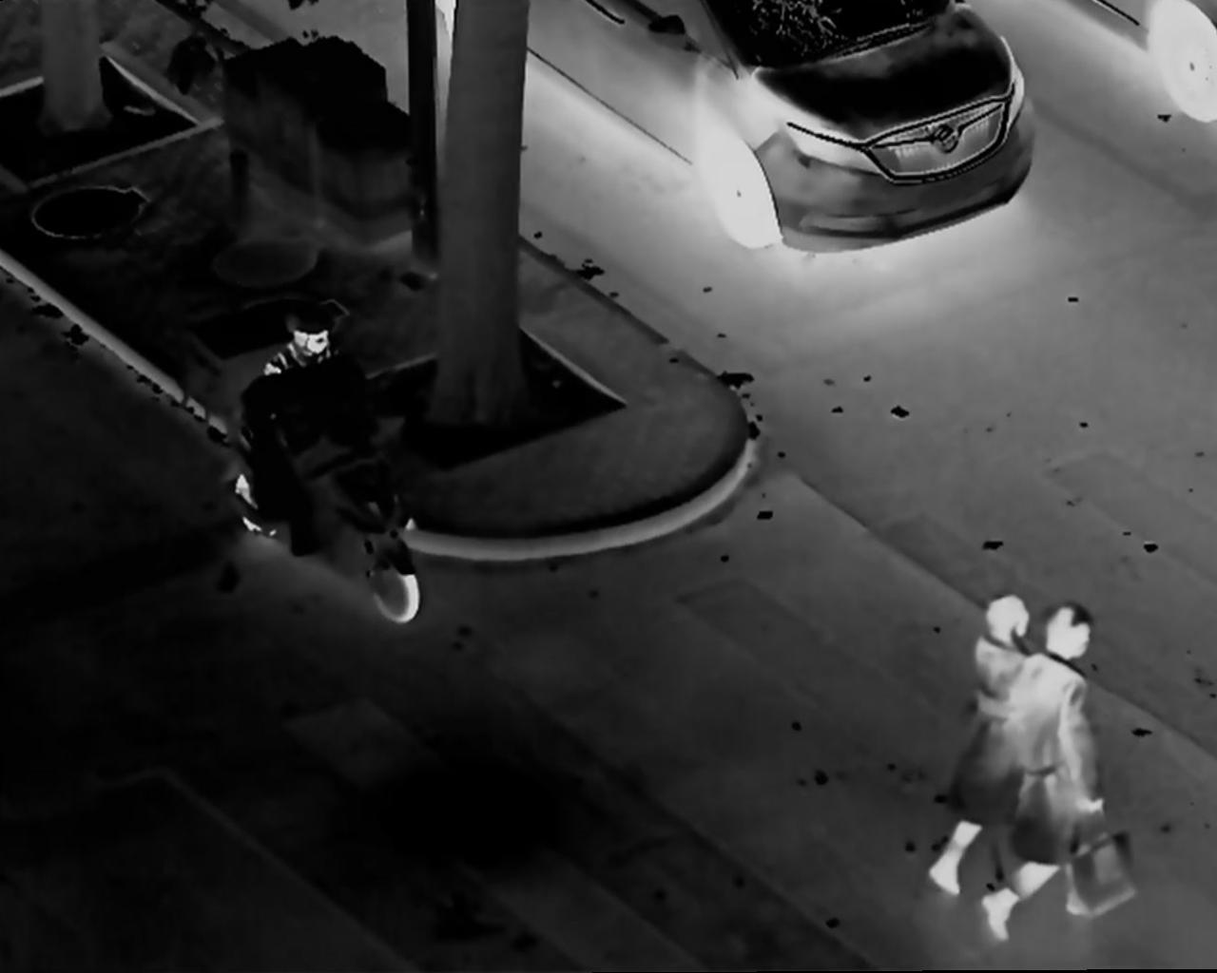person: (1011, 604, 1142, 931), (931, 594, 1038, 887), (249, 314, 356, 554)
